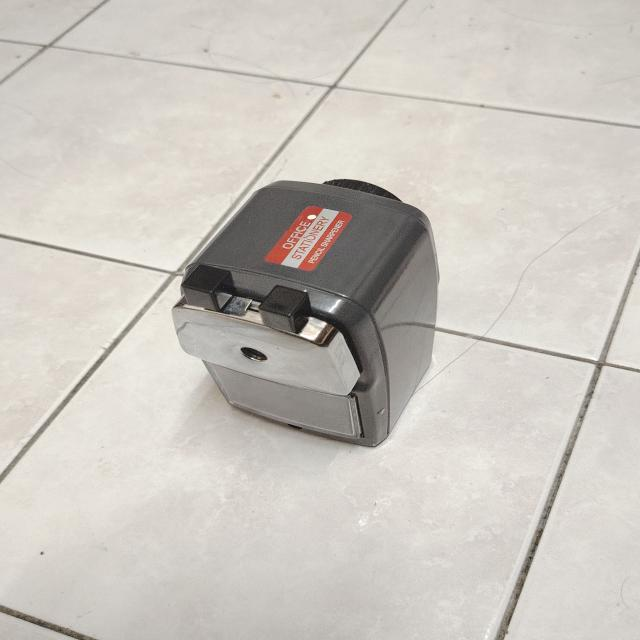sharpener: (172, 180, 439, 446)
